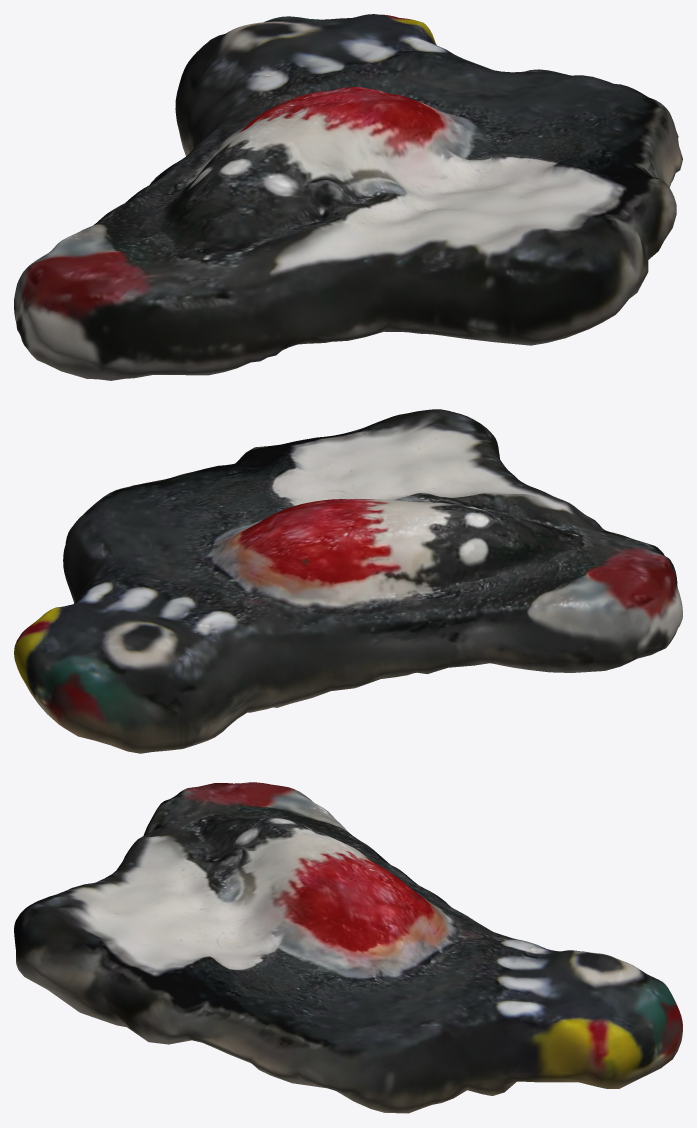
3 views of the same model, one above another, from view 1: azimuth 30°, elevation 25°; view 2: azimuth 150°, elevation 25°; view 3: azimuth 270°, elevation 25° (orthographic). The views are drawn at different scales.
Size of the model in its own units: 0.4927 by 0.1326 by 0.5071.
Materials: 1 (1 with a texture image).
